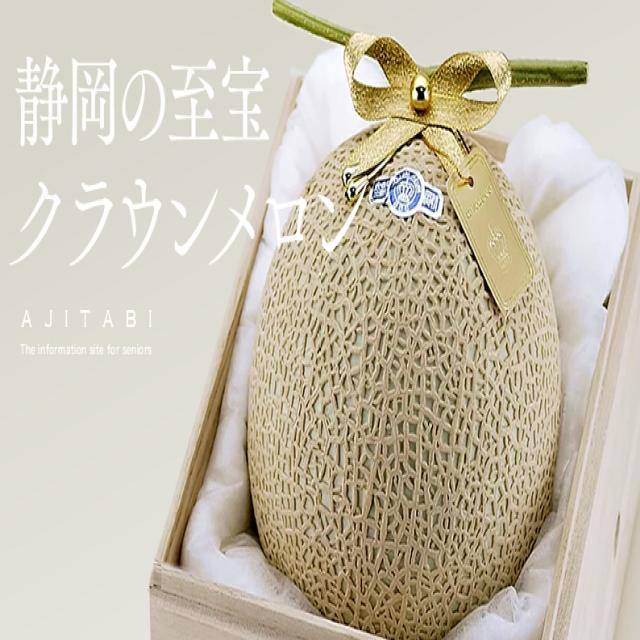melon: (246, 0, 590, 640)
